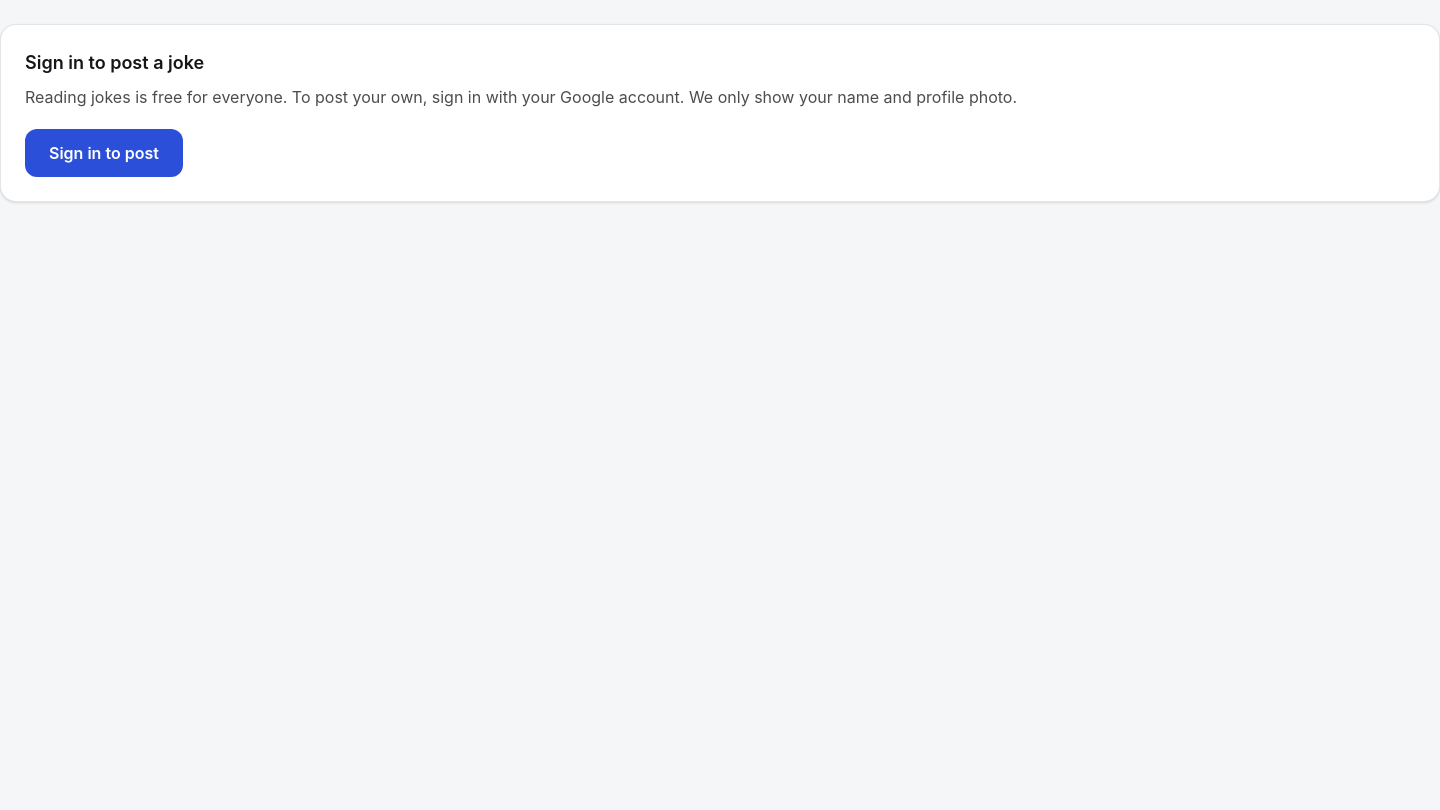
Test case: PostJokeGate › logged out: explains and offers sign-in, with no form
The width and height of the screenshot is (1440, 810).
Check: the heading "Sign in to post a joke" is shown, box [25,52,204,73]
Click the button "Sign in to post".
click(104, 153)  # box [25,129,183,177]
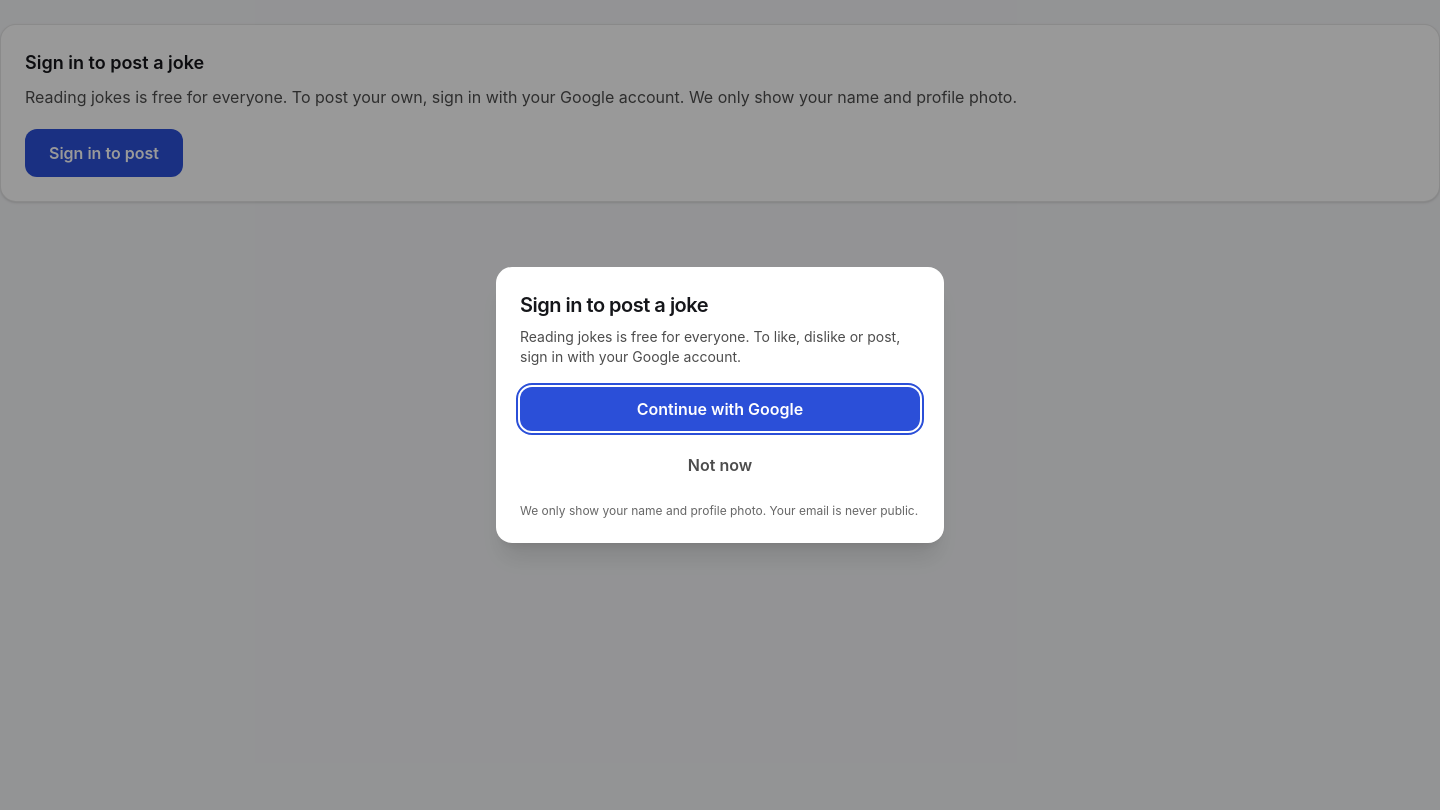
Check: the form named "redirectTo" holds "/post", box [520,387,920,431]
